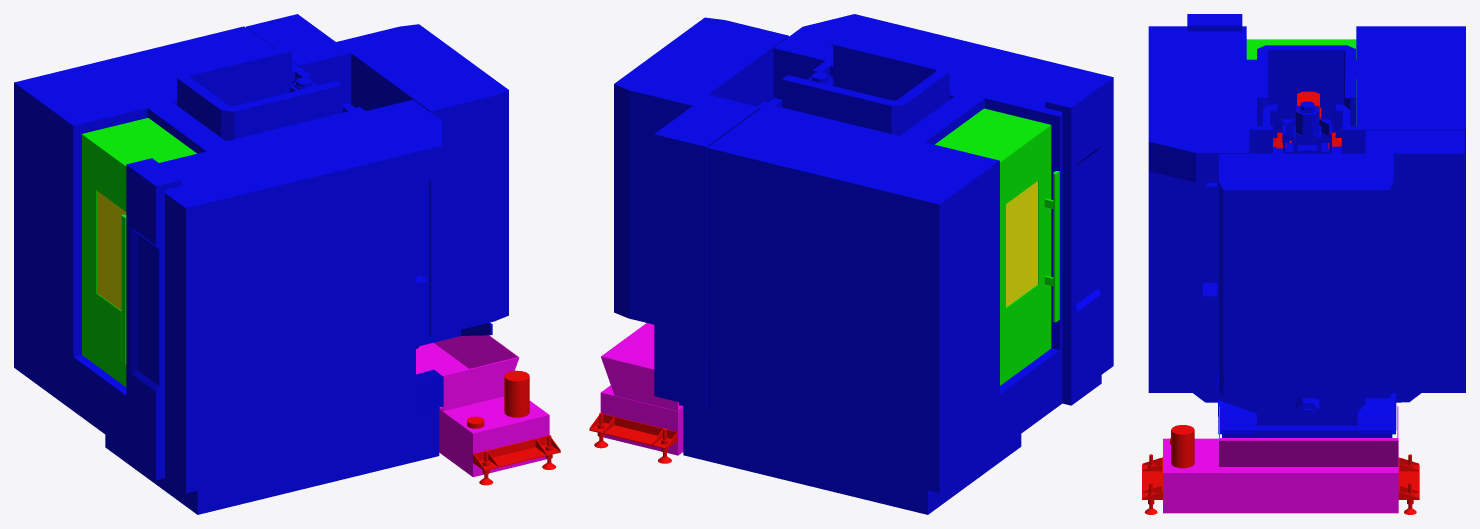
The picture shows the model from 3 angles, left to right: view 1: azimuth 30°, elevation 25°; view 2: azimuth 150°, elevation 25°; view 3: azimuth 270°, elevation 25°; orthographic projection. The views are drawn at different scales.
Parts seen in each view (by area): view 1: mod2, la3, b1, la33, la5; view 2: mod2, la3, b1, la5, la33; view 3: mod2, b1, la33, la3.
Boxes of the visible parts, x1,y1,x2,y2 form: mod2: (14, 14, 508, 514); la3: (82, 118, 196, 386); b1: (416, 335, 549, 477); la33: (467, 370, 560, 485); la5: (97, 191, 126, 310); mod2: (614, 14, 1113, 514); la3: (935, 108, 1059, 385); b1: (600, 323, 683, 455); la5: (1006, 181, 1037, 307); la33: (589, 413, 677, 463); mod2: (1148, 14, 1465, 437); b1: (1163, 406, 1398, 513); la33: (1142, 91, 1419, 514); la3: (1246, 39, 1356, 125).
Size of the model in its own units: 3.99 by 3.77 by 3.19.
